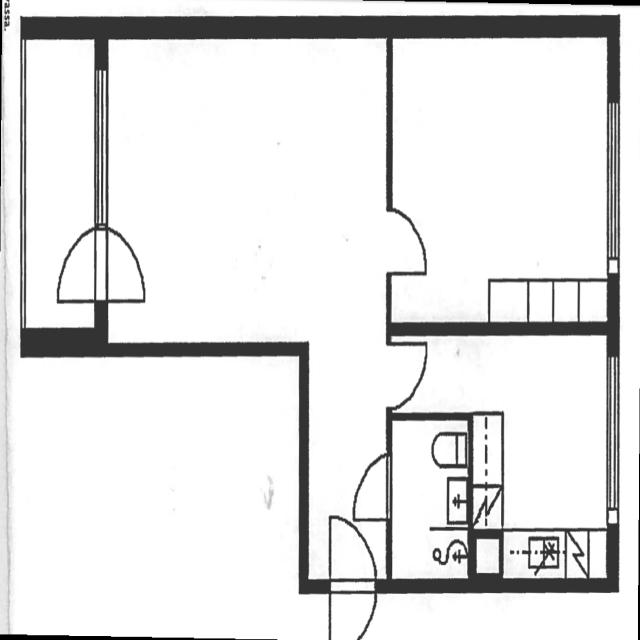door: (320, 514, 379, 640), (382, 329, 436, 414), (56, 225, 101, 308), (383, 199, 430, 278), (102, 224, 146, 304), (351, 450, 394, 527)
window: (598, 97, 627, 276), (88, 64, 116, 235), (600, 349, 627, 522)
zone: (105, 29, 379, 346), (388, 32, 618, 328), (464, 333, 616, 578), (19, 29, 104, 334), (389, 413, 471, 584), (55, 221, 102, 311), (104, 230, 145, 304)
